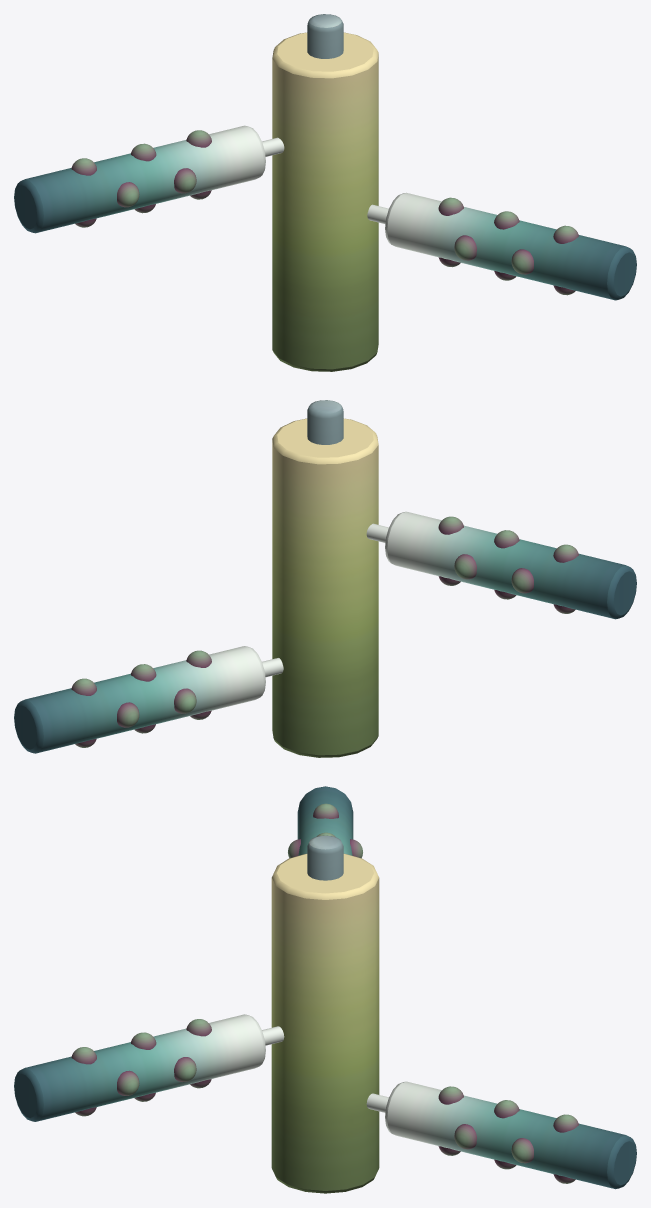
The model's file is obstacle.fbx.
The picture shows the model from 3 angles, top to bottom: view 1: azimuth 30°, elevation 25°; view 2: azimuth 150°, elevation 25°; view 3: azimuth 270°, elevation 25°; orthographic projection.
Visible parts, largest first — view 1: Cylinder.097_Color_Pallete_0.001, Cylinder.100_Color_Pallete_0.001; view 2: Cylinder.097_Color_Pallete_0.001, Cylinder.100_Color_Pallete_0.001; view 3: Cylinder.097_Color_Pallete_0.001, Cylinder.100_Color_Pallete_0.001.
Boxes of the visible parts, x1,y1,x2,y2 form: Cylinder.097_Color_Pallete_0.001: (14, 32, 636, 371); Cylinder.100_Color_Pallete_0.001: (307, 14, 343, 58); Cylinder.097_Color_Pallete_0.001: (14, 418, 636, 757); Cylinder.100_Color_Pallete_0.001: (307, 400, 343, 444); Cylinder.097_Color_Pallete_0.001: (14, 786, 636, 1193); Cylinder.100_Color_Pallete_0.001: (307, 835, 343, 880).
Size of the model in its own units: 219 by 148 by 252.
